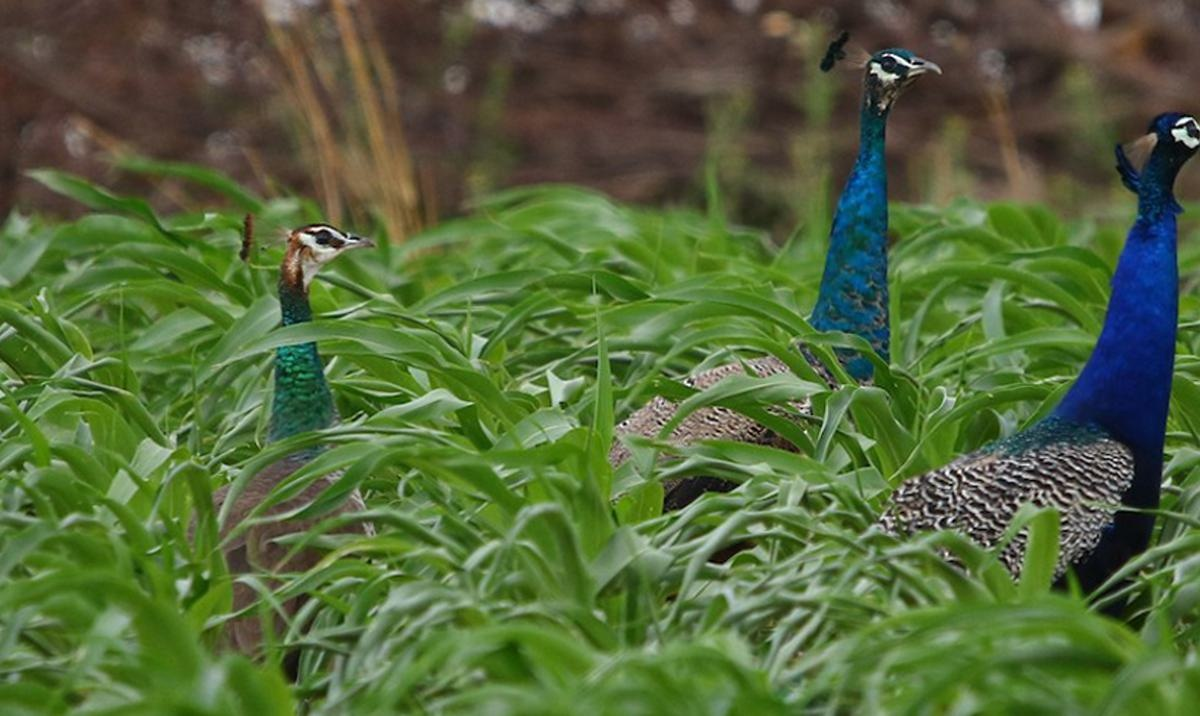peacock: (658, 33, 999, 555), (950, 95, 1198, 633)
